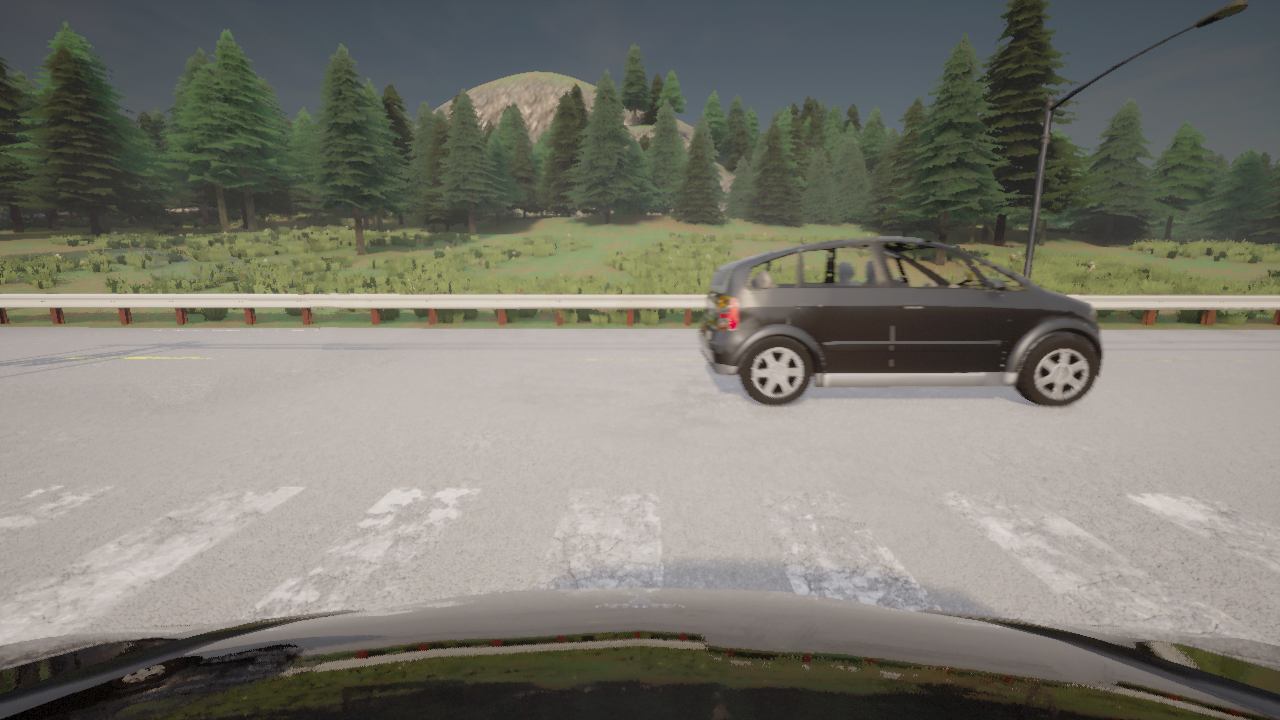cyclist: (0, 588, 1279, 719), (697, 237, 1103, 407)
